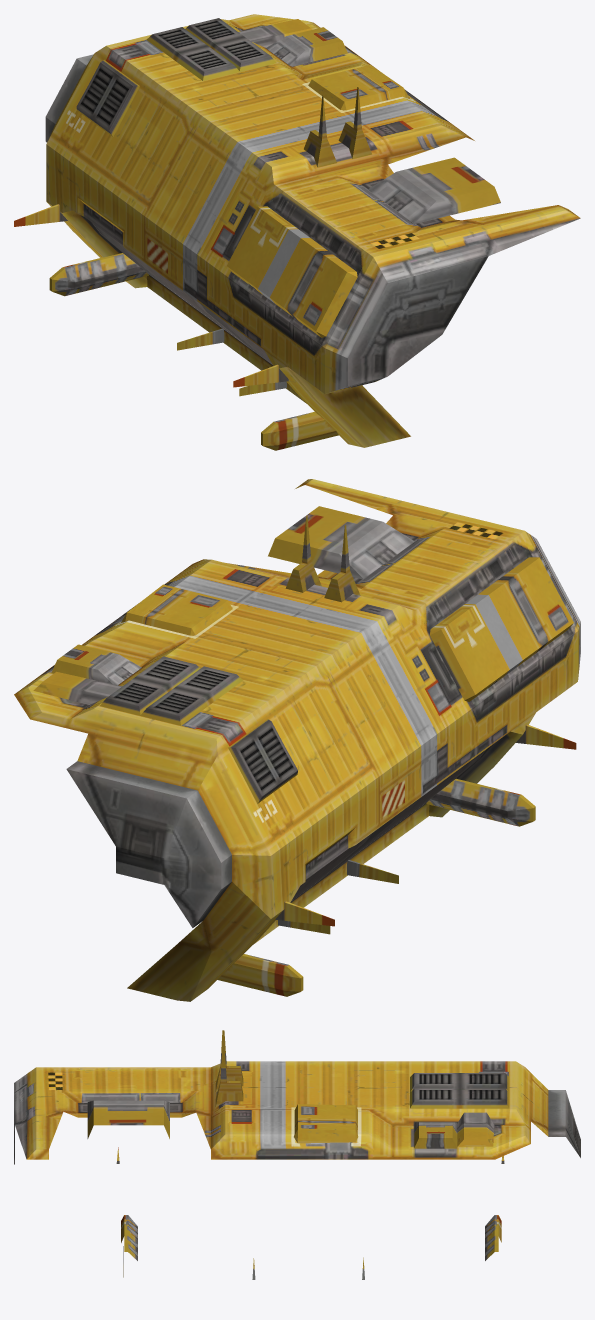
Rendered from hangar_hgn_carrier_02_advanced_01_right.glb.
3 views of the same model, one above another, from view 1: azimuth 30°, elevation 25°; view 2: azimuth 150°, elevation 25°; view 3: azimuth 270°, elevation 25° (orthographic). The views are drawn at different scales.
Parts seen in each view (by area): view 1: hgn_flagship_carrier_t1_hangar_l_right_LOD0; view 2: hgn_flagship_carrier_t1_hangar_l_right_LOD0; view 3: hgn_flagship_carrier_t1_hangar_l_right_LOD0.
Part boxes in pixels (x1,y1,x2,y2): hgn_flagship_carrier_t1_hangar_l_right_LOD0: [14, 14, 580, 450]; hgn_flagship_carrier_t1_hangar_l_right_LOD0: [14, 479, 580, 1001]; hgn_flagship_carrier_t1_hangar_l_right_LOD0: [14, 1030, 580, 1279].
Size of the model in its own units: 1.47 by 1.44 by 2.79.
1 material, 1 textured.
